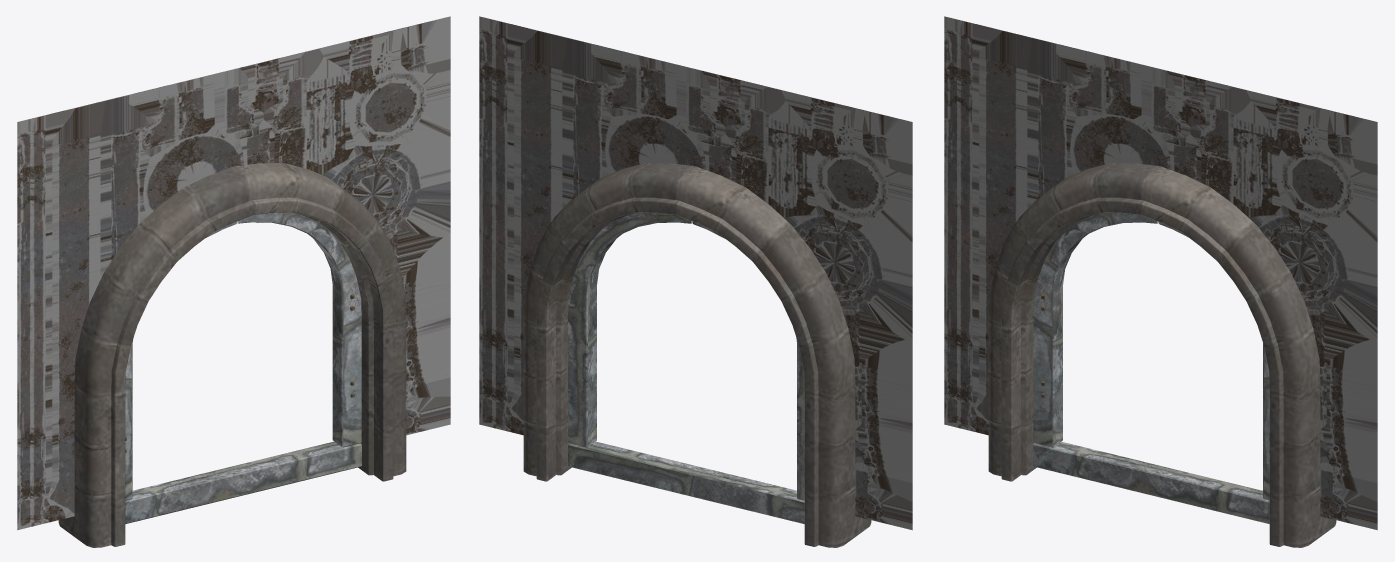
Rendered from SM_Crypt_Doorway.glb.
3 renders of one model, left to right at view 1: azimuth 30°, elevation 25°; view 2: azimuth 150°, elevation 25°; view 3: azimuth 330°, elevation 25°, orthographic.
Parts seen in each view (by area): view 1: SM_Crypt_Doorway; view 2: SM_Crypt_Doorway; view 3: SM_Crypt_Doorway.
Boxes of the visible parts, x1,y1,x2,y2 form: SM_Crypt_Doorway: [17, 16, 450, 547]; SM_Crypt_Doorway: [479, 16, 912, 547]; SM_Crypt_Doorway: [944, 16, 1377, 547].
Size of the model in its own units: 5 by 4.73 by 0.8792.
Materials: 4 (4 with a texture image).
